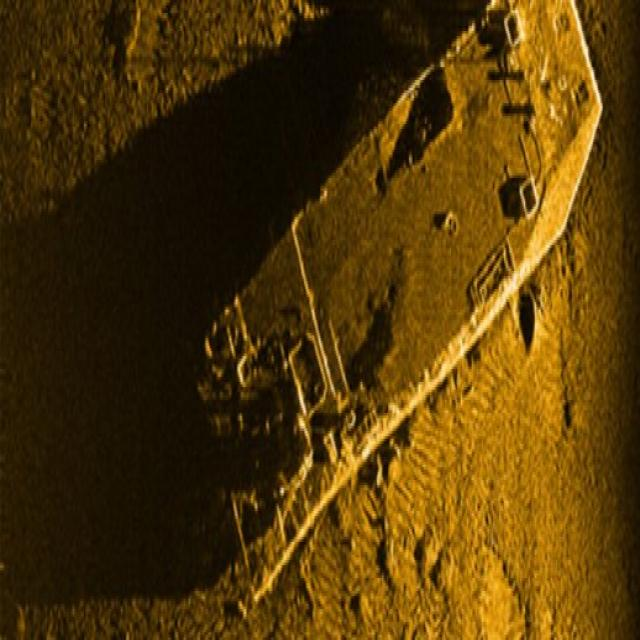ship: (192, 0, 605, 606)
